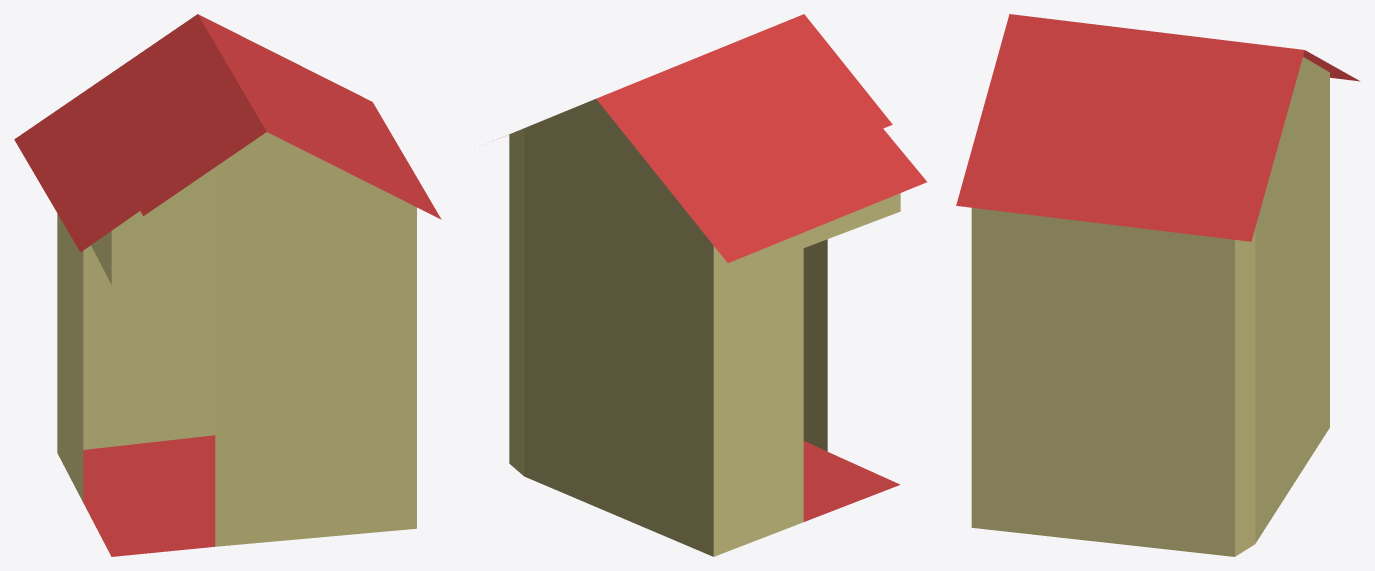
3 renders of one model, left to right at view 1: azimuth 30°, elevation 25°; view 2: azimuth 150°, elevation 25°; view 3: azimuth 270°, elevation 25°, orthographic. The views are drawn at different scales.
Bounding box in the file's own units: 12.82 × 11.25 × 13.64.
